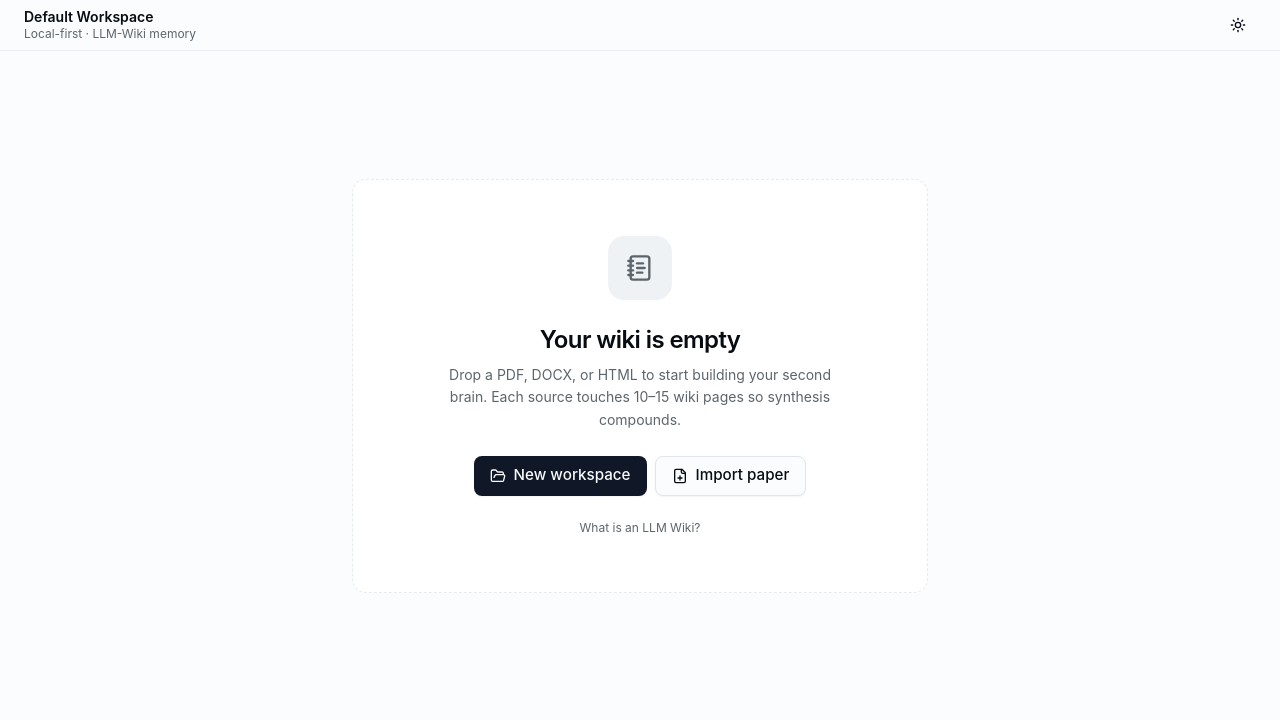
Test case: Workspace empty state › opens the workspace manager from the empty state
What coordinates should you click on to do the following:
click the button "New workspace"
I would click on:
 (560, 476)
Its box is 474,456 -> 647,496.
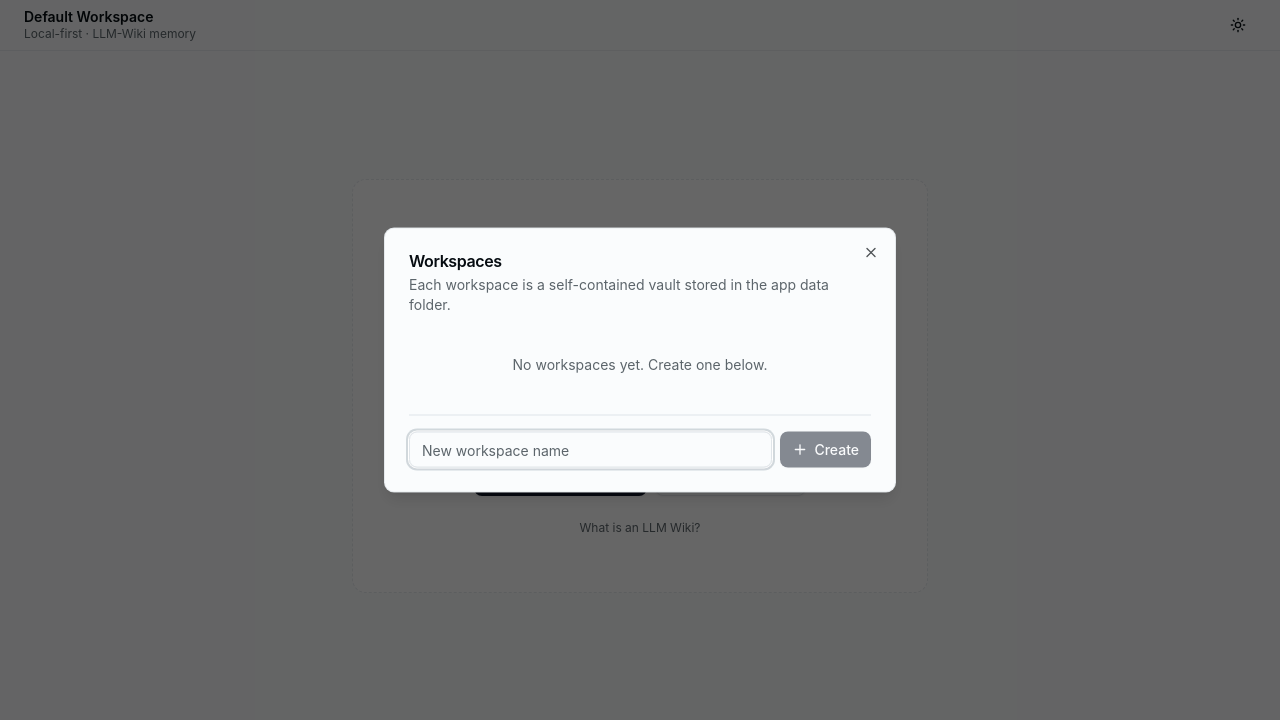
Now the field with placeholder "New workspace name" is shown, box 409,432 -> 772,468
